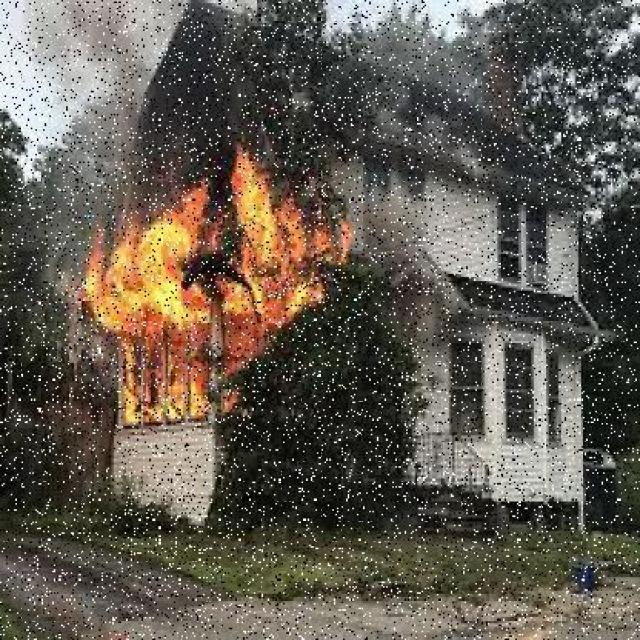fire: (72, 179, 343, 443)
